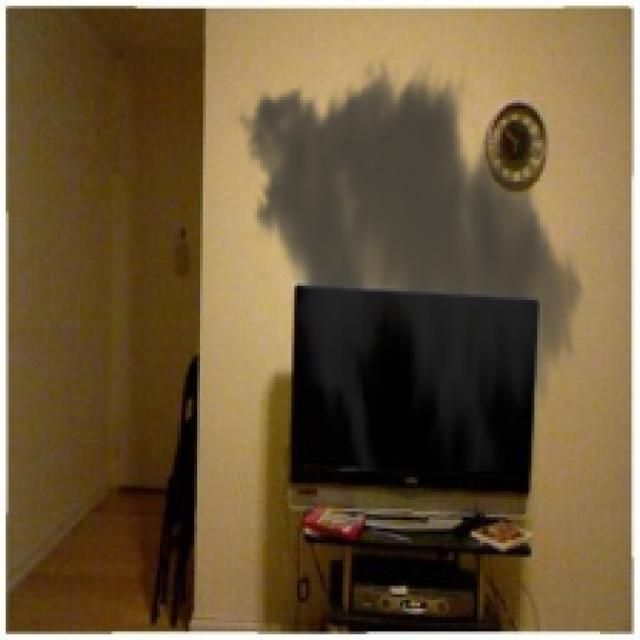Smoke: (228, 51, 594, 472)
